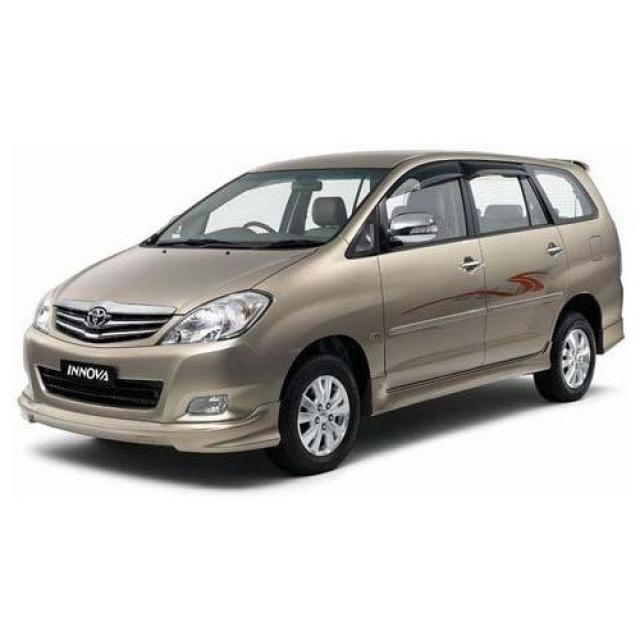light_vehicle: (18, 149, 626, 476)
